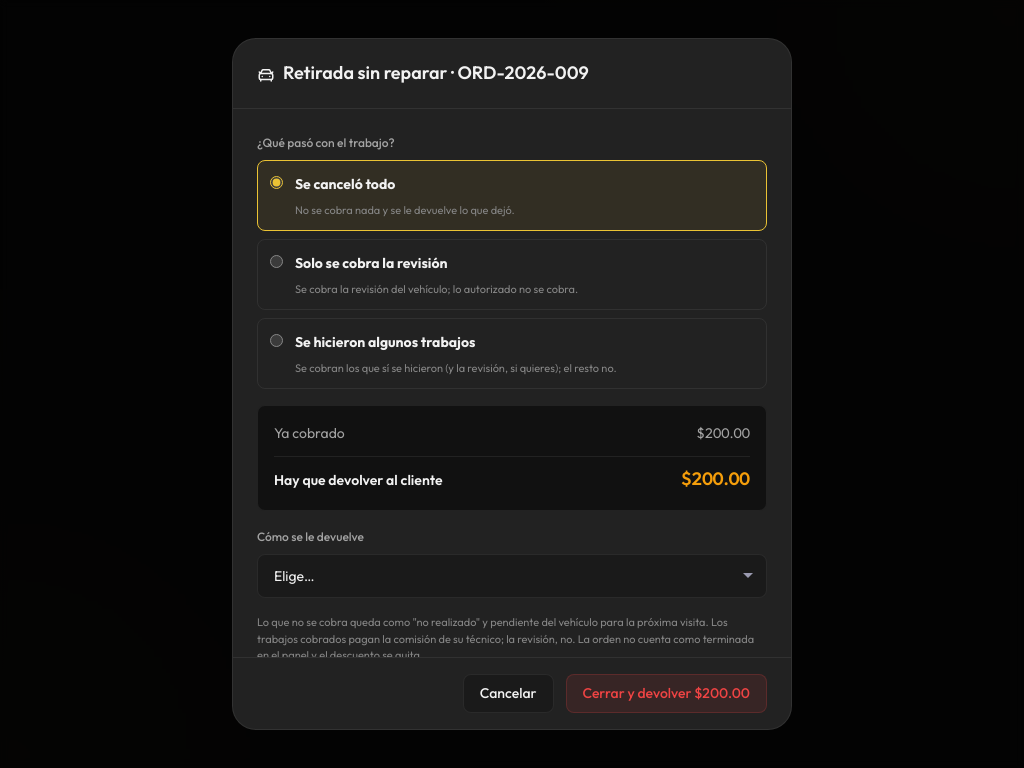
WithdrawalModal › sin trabajos marcados, "algunos trabajos" no cierra
Click the radio button labelled "Se hicieron algunos trabajos". click: (276, 341)
box: x1=270 y1=334 x2=283 y2=347
(page scrolled)
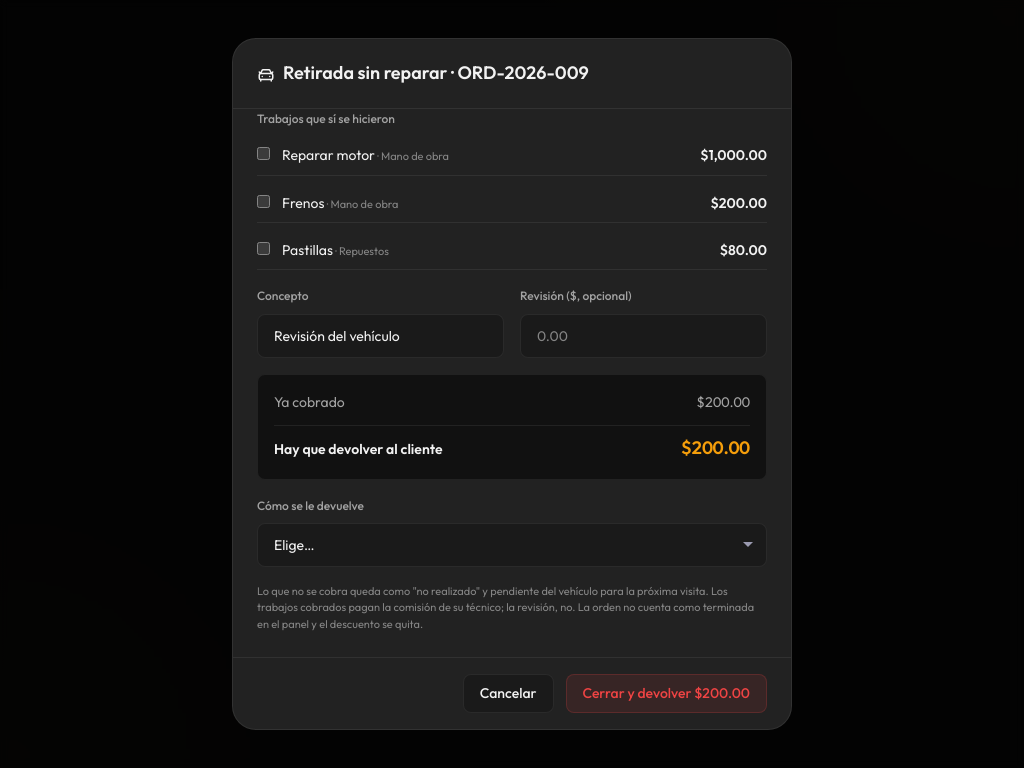
Expected: the text "Hay que devolver al cliente" is shown, x1=274 y1=438 x2=442 y2=460
Select "Efectivo" in the dropdown labelled "Cómo se le devuelve". click: (512, 545)
box: x1=257 y1=523 x2=767 y2=567
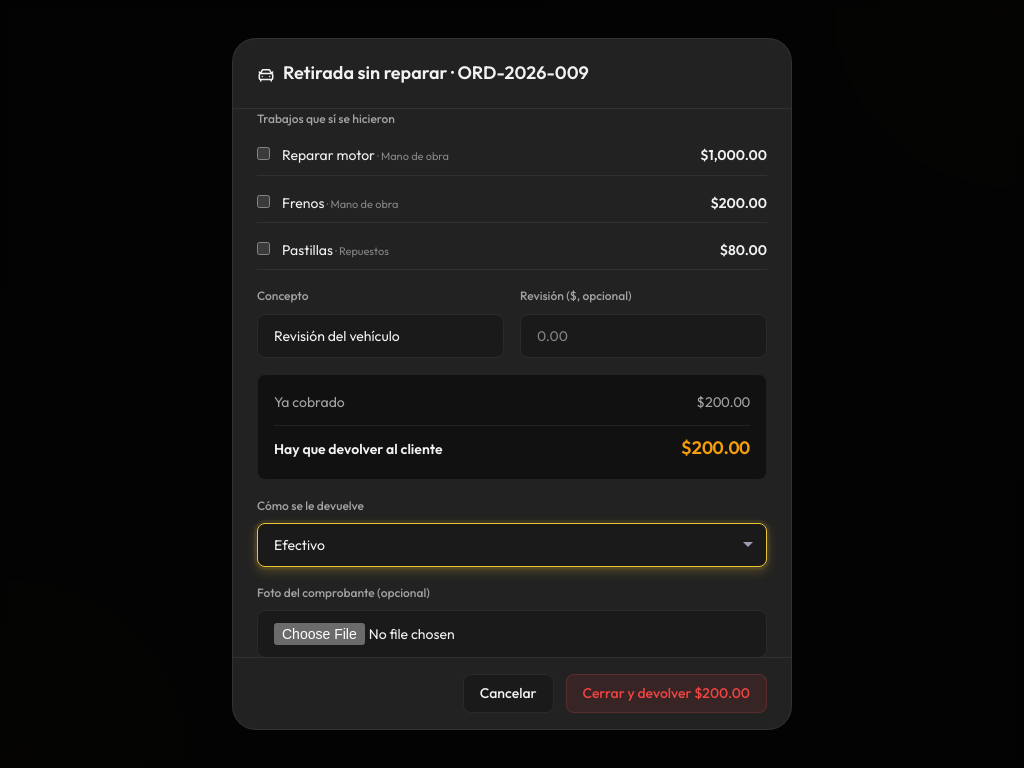
Click the button "Cerrar y devolver $200.00". click: (666, 693)
box: x1=566 y1=674 x2=767 y2=713
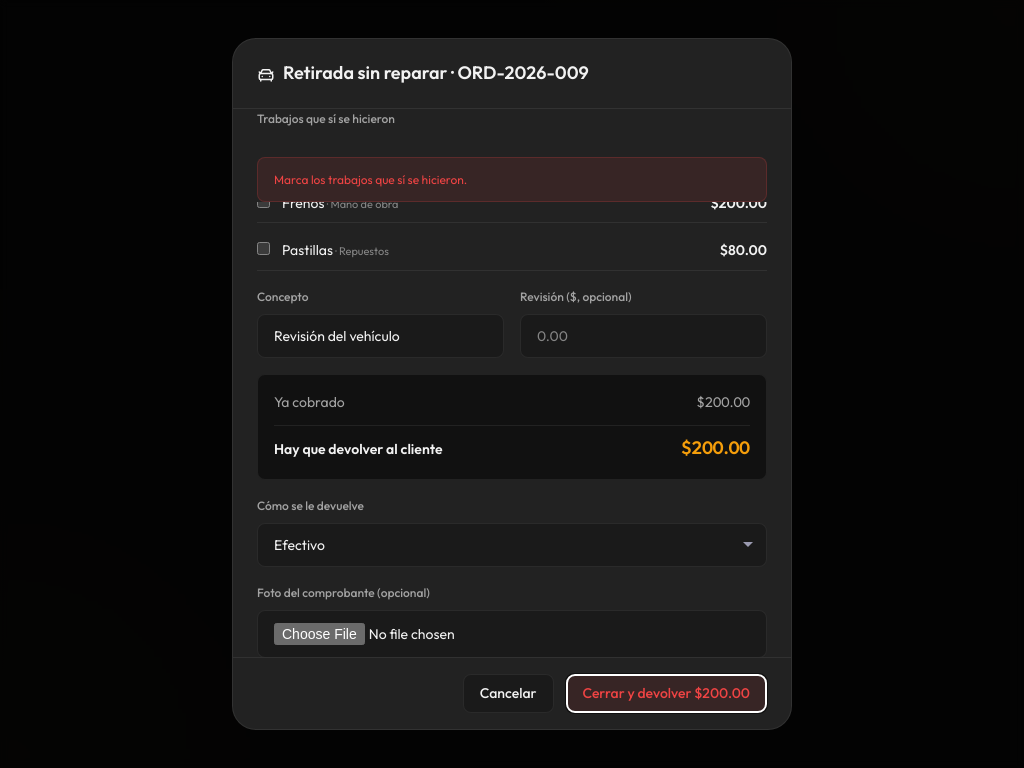
Expected: the text "Marca los trabajos que sí se hicieron." is shown, x1=257 y1=157 x2=767 y2=202
